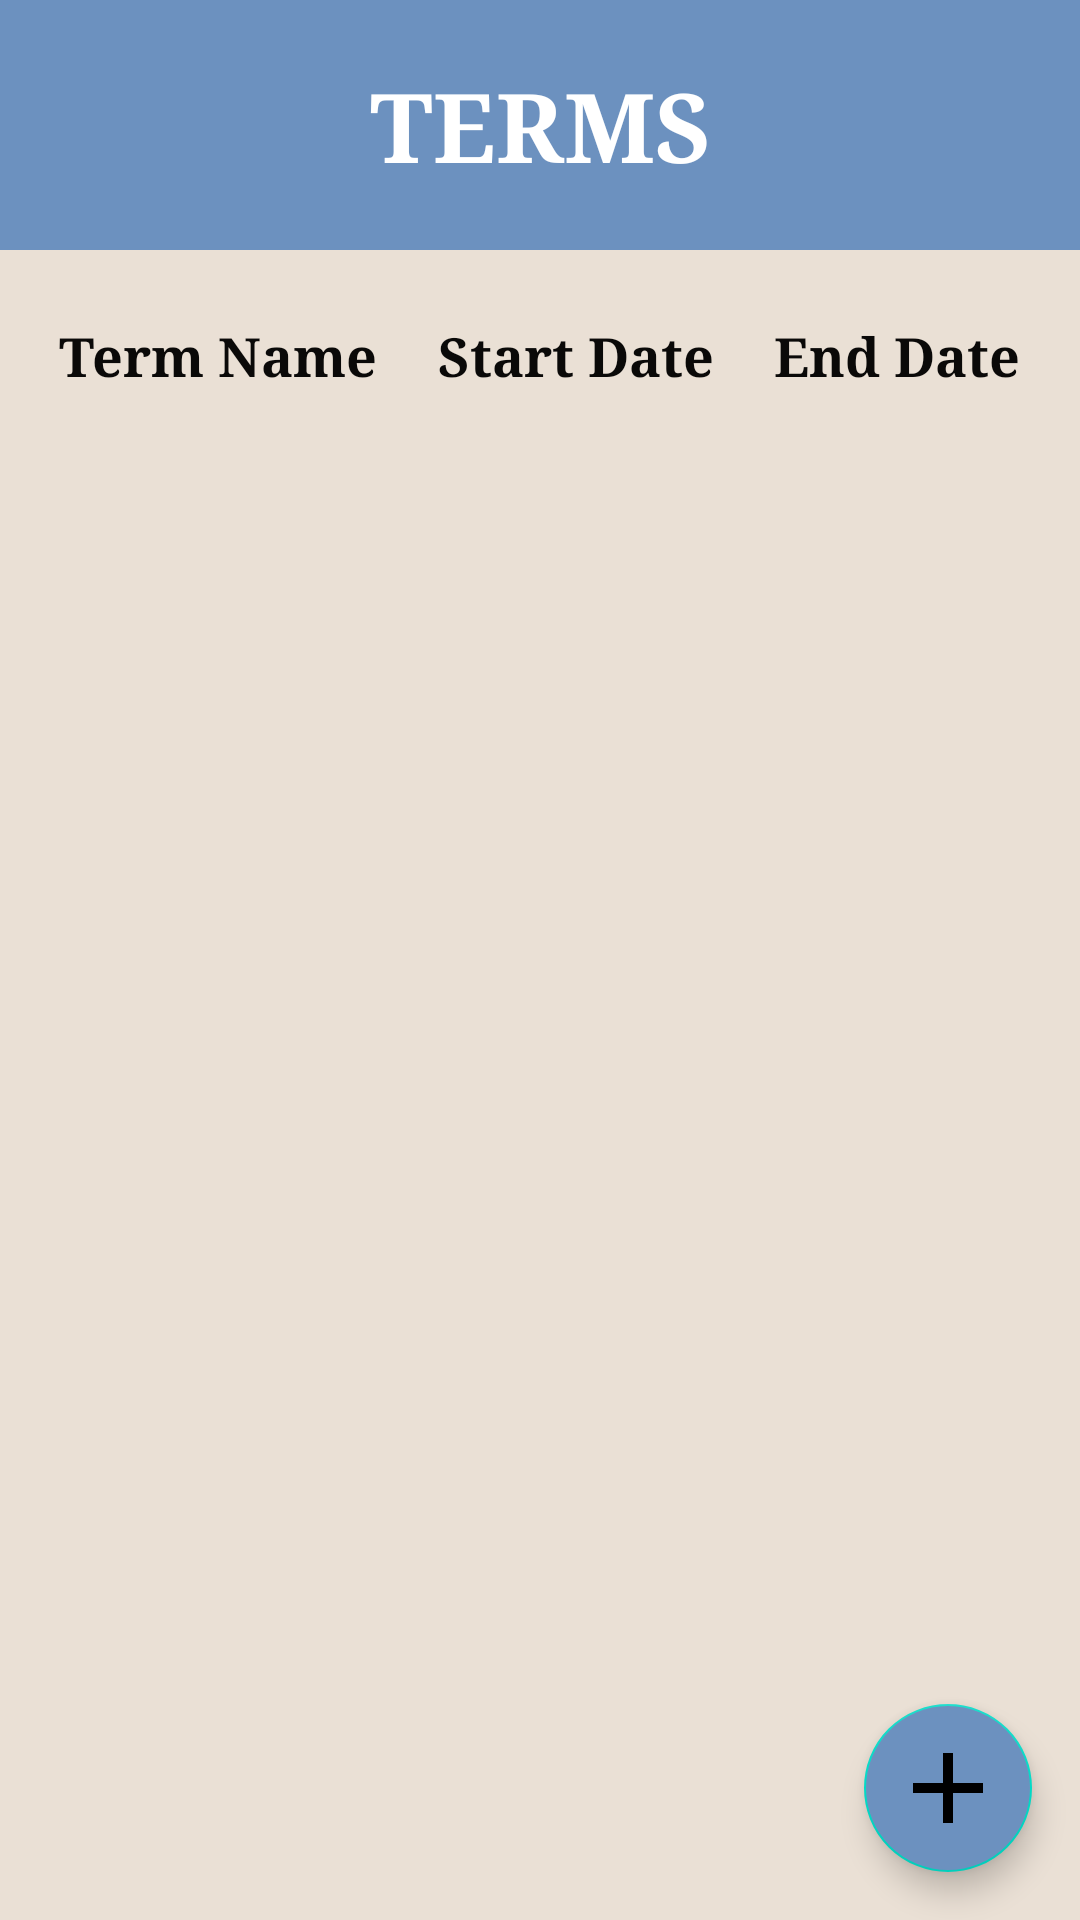

Icon bounding boxes for this 1080×1920 phone screenshot, format {"left": x1, "top": y1, "right": x2, "bottom": y2}:
Add Term: {"left": 864, "top": 1704, "right": 1032, "bottom": 1872}
